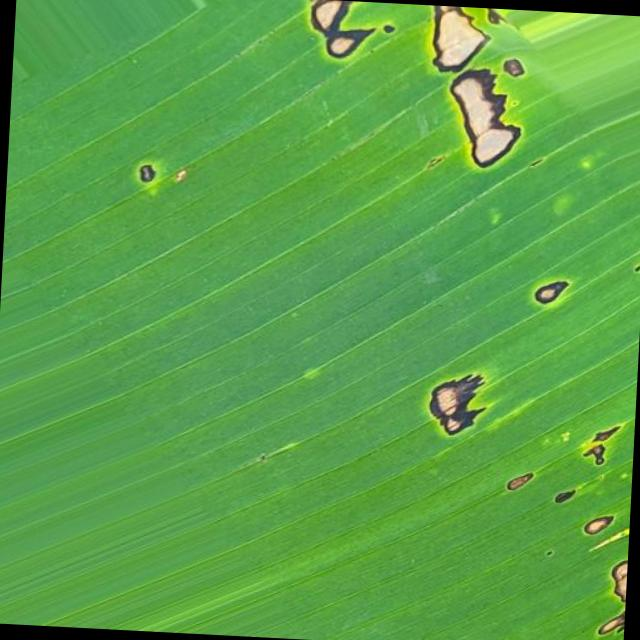Banana_Black_Sigatoka: (376, 204, 640, 552), (254, 0, 640, 219), (57, 98, 217, 200)
